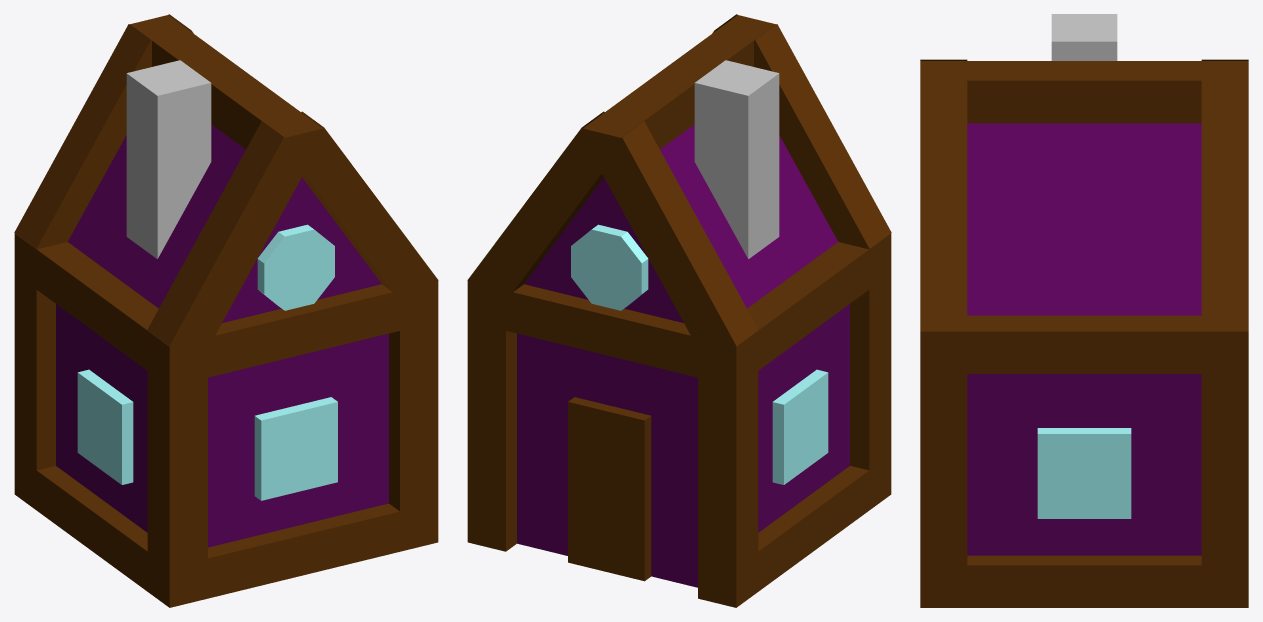
Rendered from demon_house.fbx.
3 renders of one model, left to right at view 1: azimuth 30°, elevation 25°; view 2: azimuth 150°, elevation 25°; view 3: azimuth 270°, elevation 25°, orthographic. The views are drawn at different scales.
Visible parts, largest first — view 1: 큐브.017, 실린더, 실린더.002, 큐브; view 2: 큐브.017, 실린더, 큐브, 실린더.002; view 3: 큐브.017, 실린더, 실린더.002, 큐브.
Boxes of the visible parts, <box> form: 큐브.017: <box>14,14,438,607</box>; 실린더: <box>56,124,388,547</box>; 실린더.002: <box>77,224,337,500</box>; 큐브: <box>126,60,211,258</box>; 큐브.017: <box>467,14,891,607</box>; 실린더: <box>517,124,849,587</box>; 큐브: <box>694,60,779,258</box>; 실린더.002: <box>571,224,828,484</box>; 큐브.017: <box>920,59,1248,607</box>; 실린더: <box>967,123,1201,555</box>; 실린더.002: <box>1037,428,1131,518</box>; 큐브: <box>1051,14,1117,60</box>.
Bounding box in the file's own units: 701 × 1131 × 700.
